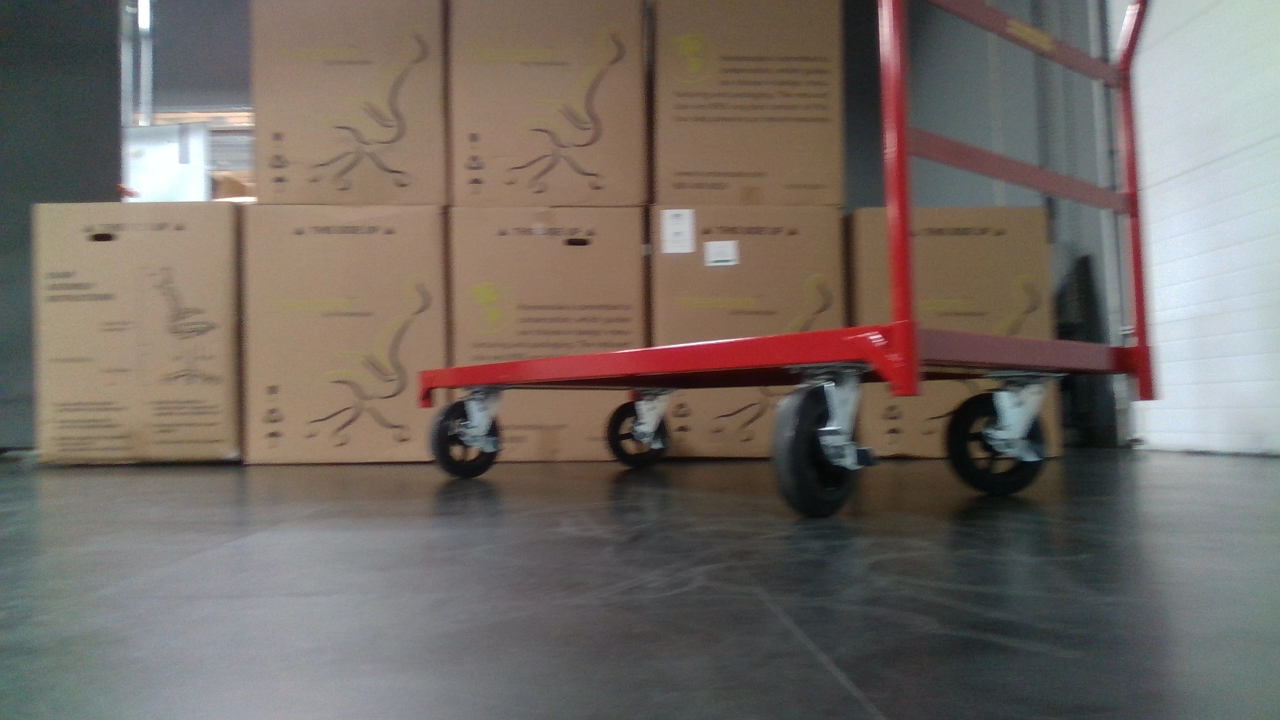Dolly: (416, 0, 1162, 516)
Wheel: (772, 385, 866, 514), (944, 390, 1052, 492), (428, 395, 502, 480), (607, 399, 674, 468)
